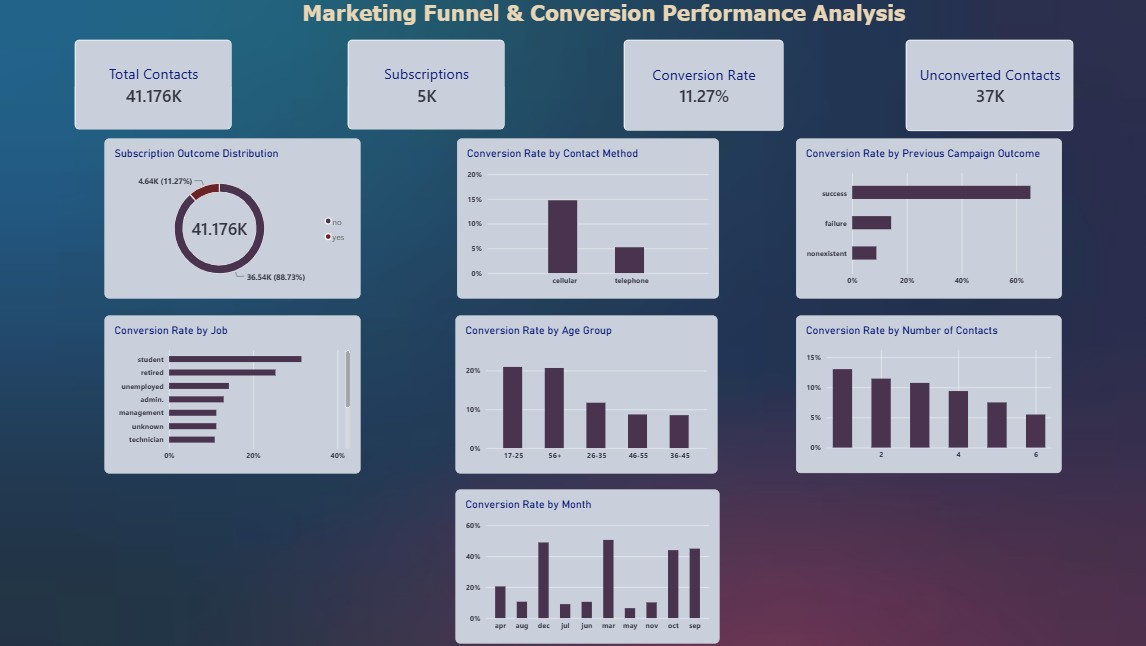

Layout of this report page (visuals, bound fields, positions):
{"tool":"powerbi","page":{"name":"Page 1","canvas":[1920,1080],"ordinal":0},"visuals":[{"type":"cardVisual","fields":{"Data":["CountNonNull(cleaned_bank_marketing.y)"]},"box":[127.5,67.5,262.5,150],"z":0},{"type":"cardVisual","fields":{"Data":["Sum(cleaned_bank_marketing.converted)"]},"box":[582.5,67.5,262.5,150],"z":1000},{"type":"cardVisual","fields":{"Data":["cleaned_bank_marketing.Conversion Rate"]},"box":[1042.5,67.5,267.5,152.5],"z":2000},{"type":"cardVisual","fields":{"Data":["cleaned_bank_marketing.Unconverted Contacts"]},"box":[1512.5,67.5,280,153.3],"z":3000},{"type":"clusteredColumnChart","title":"Conversion Rate by Contact Method","fields":{"Category":["cleaned_bank_marketing.contact"],"Y":["cleaned_bank_marketing.Conversion Rate"]},"box":[765,232.5,436.7,266.7],"z":4000},{"type":"clusteredBarChart","title":"Conversion Rate by Job","fields":{"Category":["cleaned_bank_marketing.job"],"Y":["cleaned_bank_marketing.Conversion Rate"]},"box":[176.7,526.7,426.7,263.3],"z":5000},{"type":"clusteredColumnChart","title":"Conversion Rate by Month","fields":{"Category":["cleaned_bank_marketing.month"],"Y":["cleaned_bank_marketing.Conversion Rate"]},"box":[763.3,816.7,440,256.7],"z":6000},{"type":"clusteredBarChart","title":"Conversion Rate by Previous Campaign Outcome","fields":{"Category":["cleaned_bank_marketing.poutcome"],"Y":["cleaned_bank_marketing.Conversion Rate"]},"box":[1330,233.3,443.3,266.7],"z":7000},{"type":"clusteredColumnChart","title":"Conversion Rate by Number of Contacts","fields":{"Category":["cleaned_bank_marketing.campaign_group"],"Y":["cleaned_bank_marketing.Conversion Rate"]},"box":[1330,527.5,442.5,262.5],"z":8000},{"type":"clusteredColumnChart","title":"Conversion Rate by Age Group","fields":{"Category":["cleaned_bank_marketing.age_group"],"Y":["cleaned_bank_marketing.Conversion Rate"]},"box":[763.3,526.7,436.7,263.3],"z":9000},{"type":"donutChart","title":"Subscription Outcome Distribution","fields":{"Category":["cleaned_bank_marketing.y"],"Y":["CountNonNull(cleaned_bank_marketing.y)"]},"box":[177.5,232.5,426.7,266.7],"z":10000},{"type":"textbox","box":[97.5,0,1825,87.5],"z":11000}]}

Visuals, with their boxes in screenshot pixels (x1, y1, x2, y2), scaled from the page's 1920x1080 canvas onto the 1146x646 screenshot:
cardVisual - CountNonNull(cleaned_bank_marketing.y): select_region(76, 40, 233, 130)
cardVisual - Sum(cleaned_bank_marketing.converted): select_region(348, 40, 504, 130)
cardVisual - cleaned_bank_marketing.Conversion Rate: select_region(622, 40, 782, 132)
cardVisual - cleaned_bank_marketing.Unconverted Contacts: select_region(903, 40, 1070, 132)
"Conversion Rate by Contact Method" clusteredColumnChart: select_region(457, 139, 717, 299)
"Conversion Rate by Job" clusteredBarChart: select_region(105, 315, 360, 473)
"Conversion Rate by Month" clusteredColumnChart: select_region(456, 489, 718, 642)
"Conversion Rate by Previous Campaign Outcome" clusteredBarChart: select_region(794, 140, 1058, 299)
"Conversion Rate by Number of Contacts" clusteredColumnChart: select_region(794, 316, 1058, 473)
"Conversion Rate by Age Group" clusteredColumnChart: select_region(456, 315, 716, 473)
"Subscription Outcome Distribution" donutChart: select_region(106, 139, 361, 299)
textbox: select_region(58, 0, 1145, 52)
